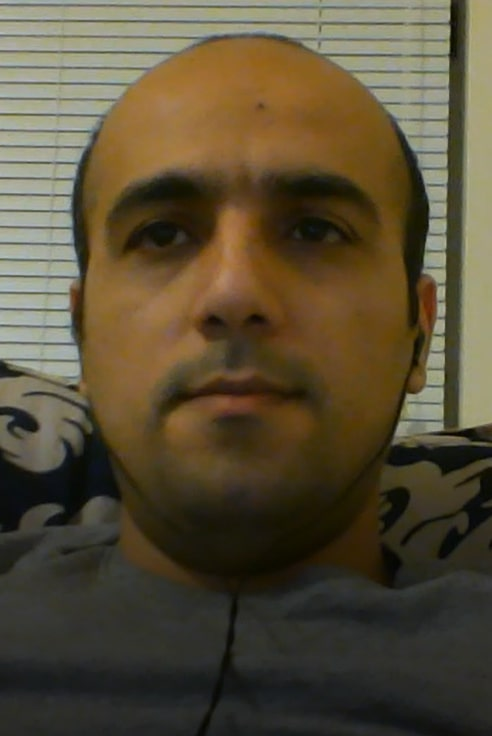Not Sleeping: (99, 165, 382, 290)
